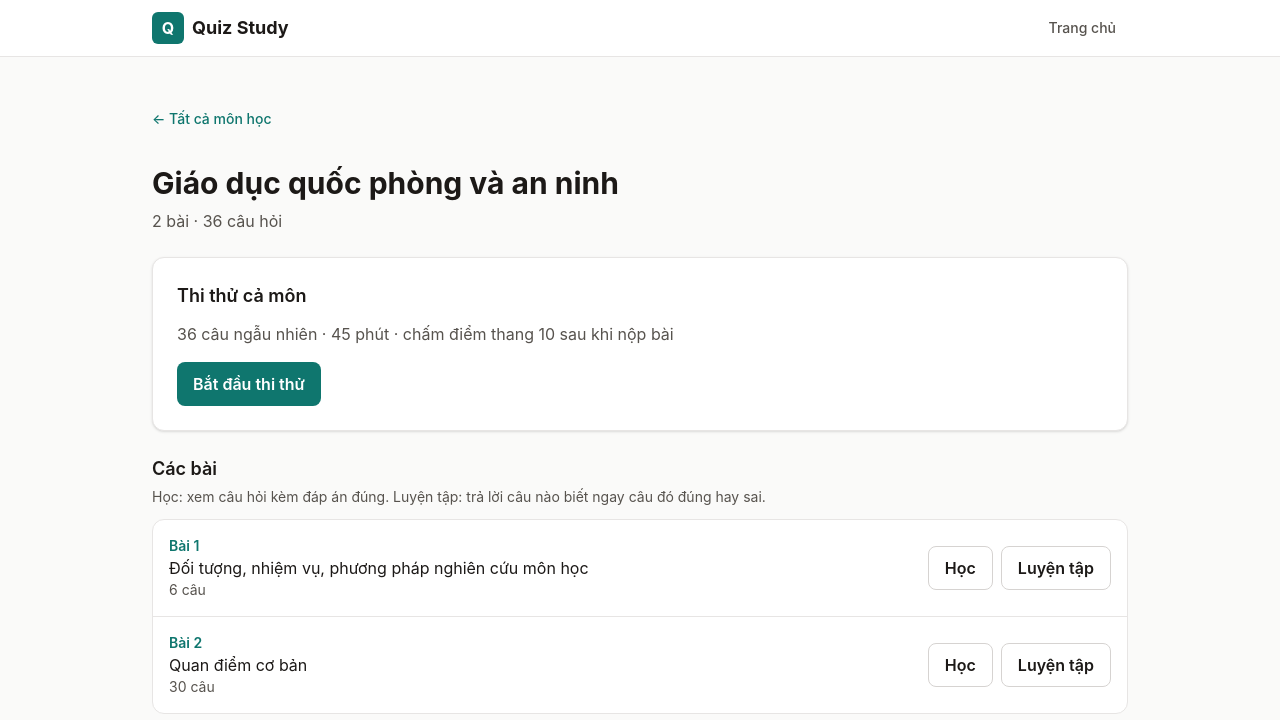
Test: SubjectPage › tells the user when the attempt cannot be started
This screenshot has width=1280, height=720.
Click the button "Bắt đầu thi thử" at (249, 384), box [177,362,321,406]
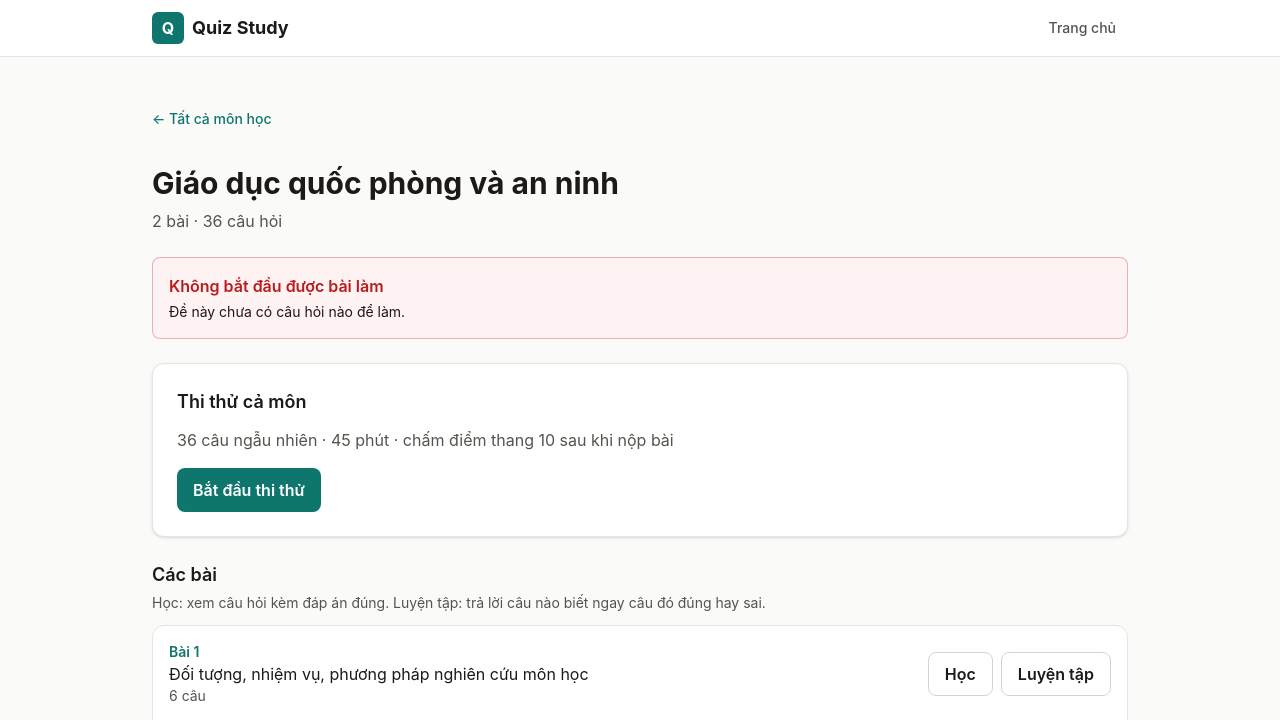
Expected: the button "Bắt đầu thi thử" is enabled, [177,468,321,512]
Now the message shows "Đề này chưa có câu hỏi nào để làm.", box [169,303,405,320]
